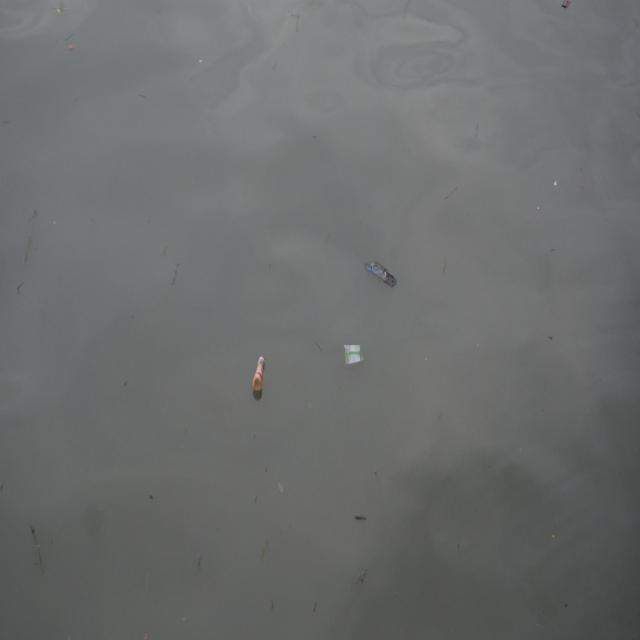Botol Plastik: (252, 350, 269, 399)
Bungkus Makanan: (343, 343, 365, 366)
